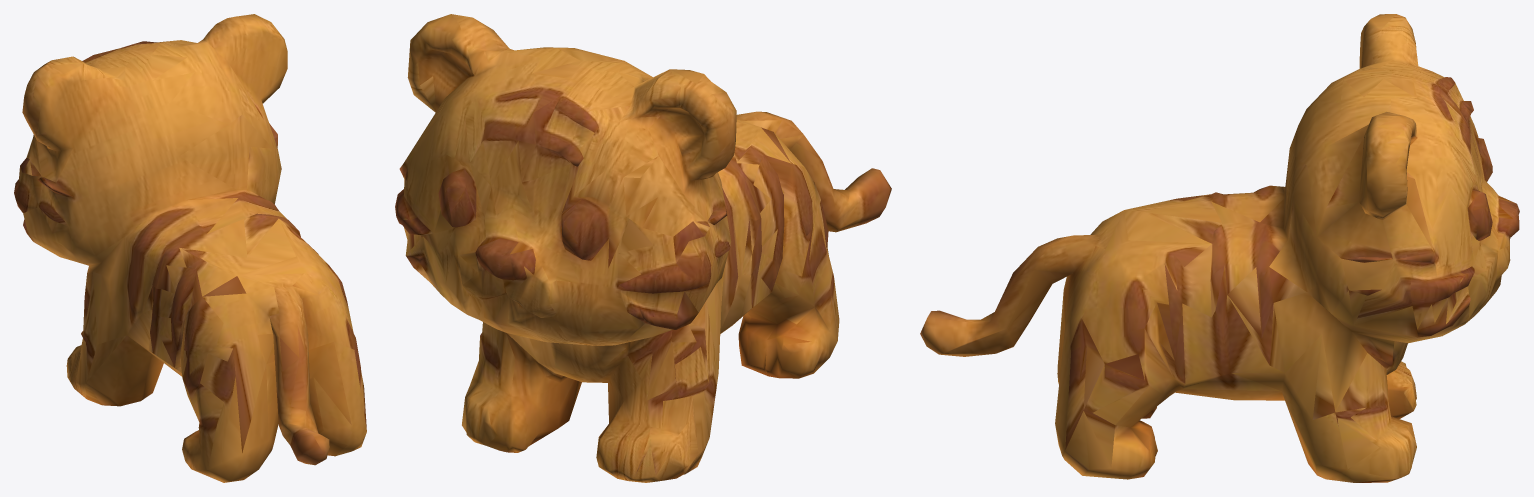
Rendered from tiger.glb.
3 views of the same model, side by side, from view 1: azimuth 30°, elevation 25°; view 2: azimuth 150°, elevation 25°; view 3: azimuth 270°, elevation 25° (orthographic). The views are drawn at different scales.
Parts seen in each view (by area): view 1: animal_tiger; view 2: animal_tiger; view 3: animal_tiger.
Boxes of the visible parts, x1=… form: animal_tiger: x1=14, y1=14, x2=366, y2=482; animal_tiger: x1=395, y1=14, x2=891, y2=482; animal_tiger: x1=920, y1=14, x2=1519, y2=482.
Bounding box in the file's own units: 0.0324 × 0.0394 × 0.058.
1 material, 1 textured.
